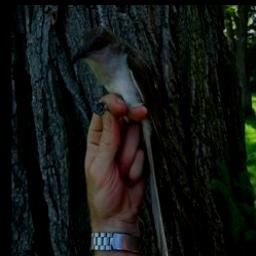Cuckoo: (67, 24, 178, 256)
